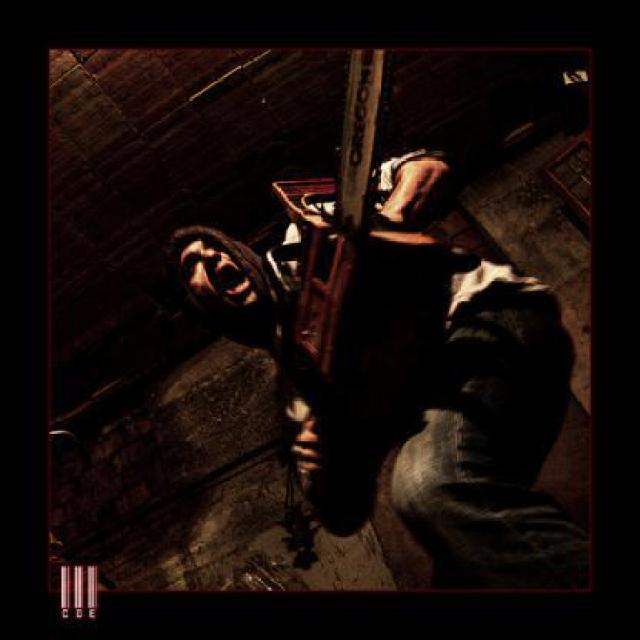Chainsaw: (269, 54, 482, 534)
